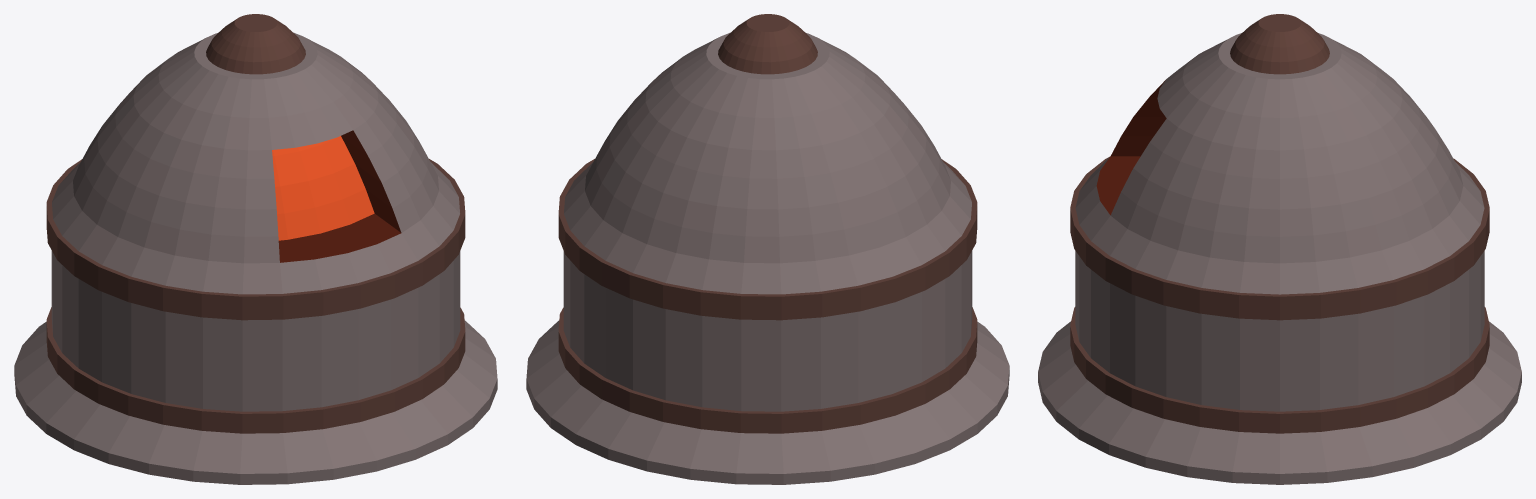
Rendered from smelter.glb.
The picture shows the model from 3 angles, left to right: view 1: azimuth 30°, elevation 25°; view 2: azimuth 150°, elevation 25°; view 3: azimuth 270°, elevation 25°; orthographic projection.
Visible parts, largest first — view 1: smelter-col; view 2: smelter-col; view 3: smelter-col.
Part boxes in pixels (<box>): smelter-col: <box>14,14,497,484</box>; smelter-col: <box>526,14,1009,484</box>; smelter-col: <box>1038,14,1521,484</box>.
Size of the model in its own units: 2 by 1.64 by 2.
